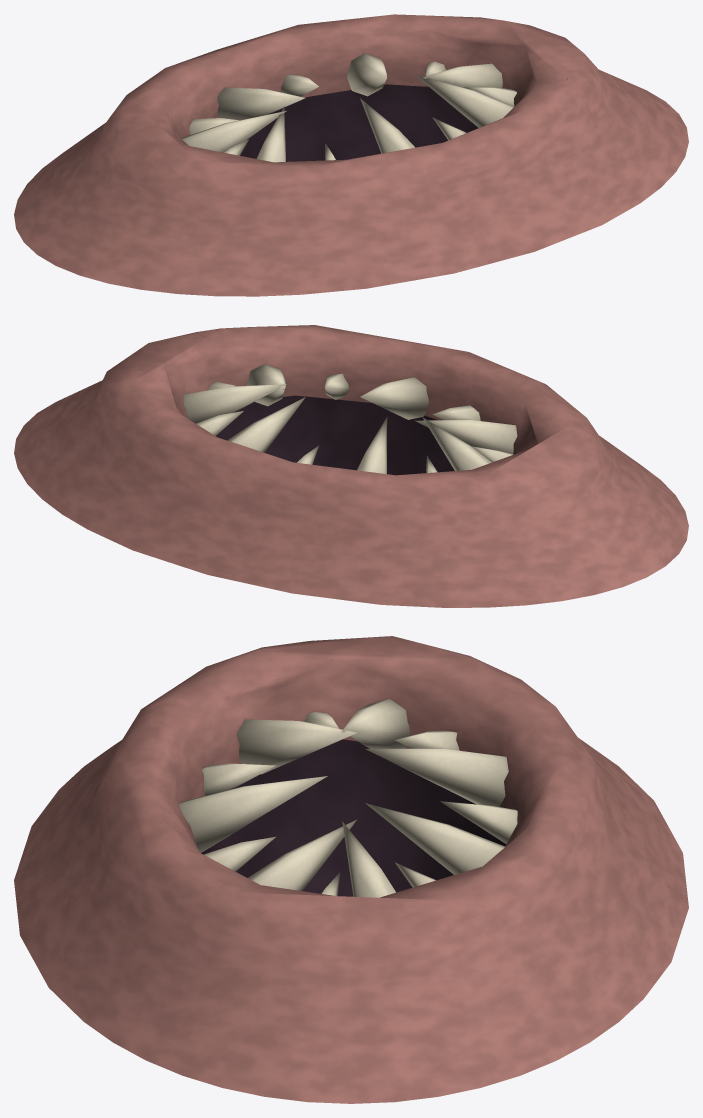
Rendered from cpart_maw.glb.
The picture shows the model from 3 angles, top to bottom: view 1: azimuth 30°, elevation 25°; view 2: azimuth 150°, elevation 25°; view 3: azimuth 270°, elevation 25°; orthographic projection. The views are drawn at different scales.
Parts seen in each view (by area): view 1: Maw, Teeth; view 2: Maw, Teeth; view 3: Maw, Teeth.
Part boxes in pixels (left/top/right/bottom): Maw: left=14, top=14, right=688, bottom=296; Teeth: left=182, top=53, right=516, bottom=162; Maw: left=14, top=325, right=688, bottom=607; Teeth: left=183, top=364, right=517, bottom=473; Maw: left=14, top=636, right=688, bottom=1103; Teeth: left=178, top=699, right=517, bottom=897.
Size of the model in its own units: 0.159 by 0.044 by 0.1082.
Materials: 3 (3 with a texture image).
